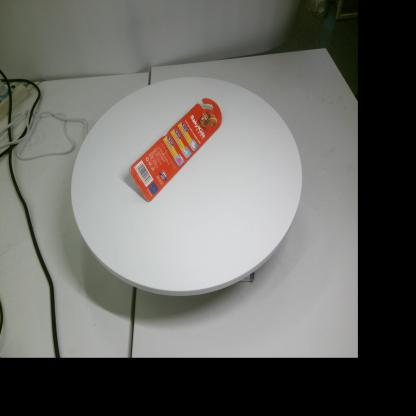Personal Hygiene: (128, 98, 222, 202)
